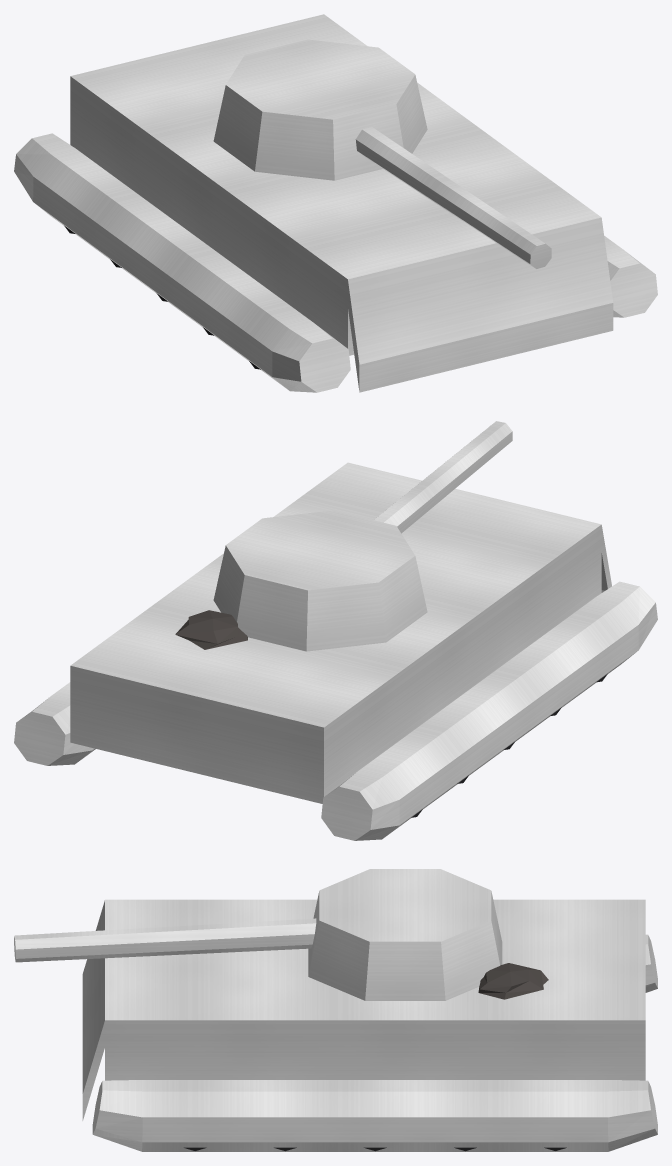
The model's file is wreck_tank.obj.
The picture shows the model from 3 angles, top to bottom: view 1: azimuth 30°, elevation 25°; view 2: azimuth 150°, elevation 25°; view 3: azimuth 270°, elevation 25°; orthographic projection. The views are drawn at different scales.
Parts seen in each view (by area): view 1: wreck_tank; view 2: wreck_tank; view 3: wreck_tank.
Boxes of the visible parts, box(x1,y1,x2,y2) form: wreck_tank: box(14, 14, 657, 392); wreck_tank: box(14, 421, 657, 840); wreck_tank: box(14, 869, 657, 1151).
Size of the model in its own units: 2.74 by 1.23 by 4.29.
